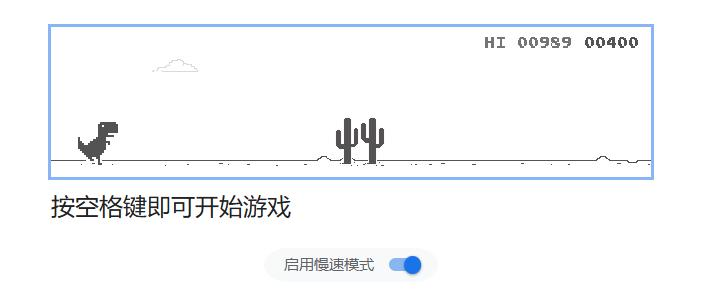cactus: (334, 115, 386, 169)
dino: (75, 119, 119, 165)
